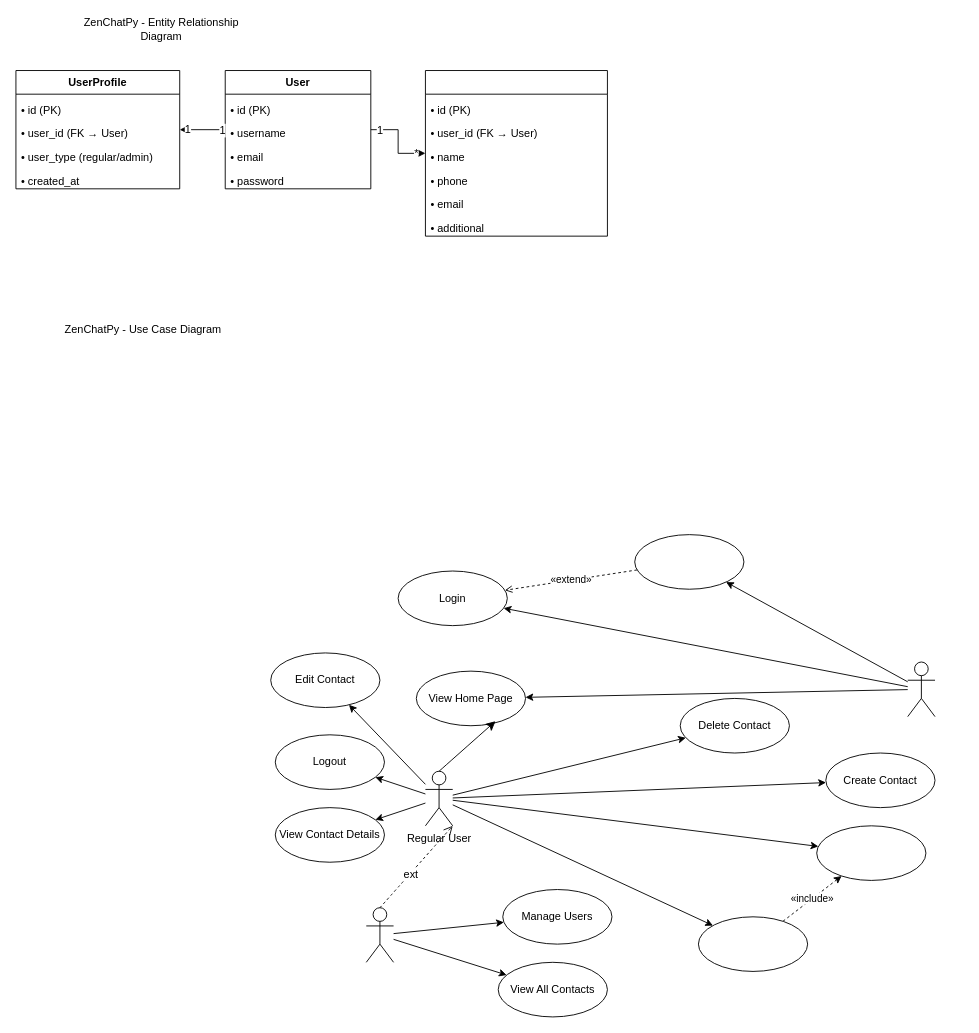
This 979x1033 diagram has some shape labels left out. The box of each missing label's shape, as (x1, y1, x2, y2) in pixels:
Administrator: (365, 907, 394, 962)
Contact: (425, 70, 607, 236)
Guest (unauthed): (907, 661, 935, 717)
Register Account: (634, 534, 744, 589)
Search Contacts: (816, 825, 926, 880)
View Contact List: (698, 916, 808, 971)
